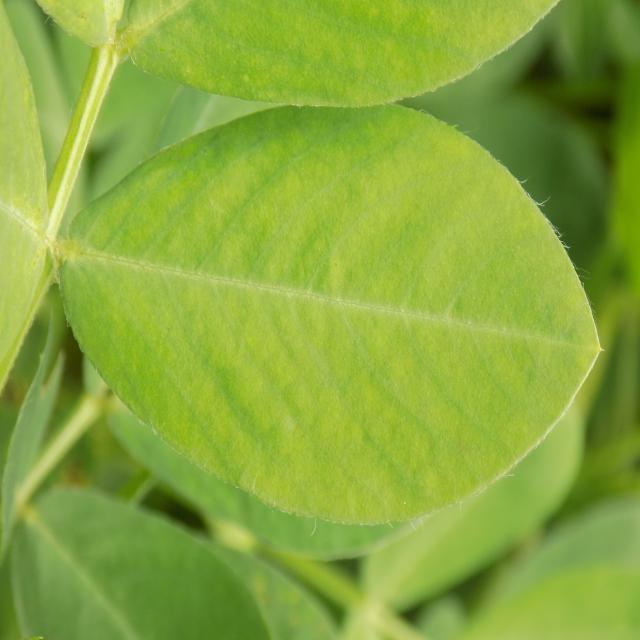Ground nut_healthy: (50, 101, 597, 523)
